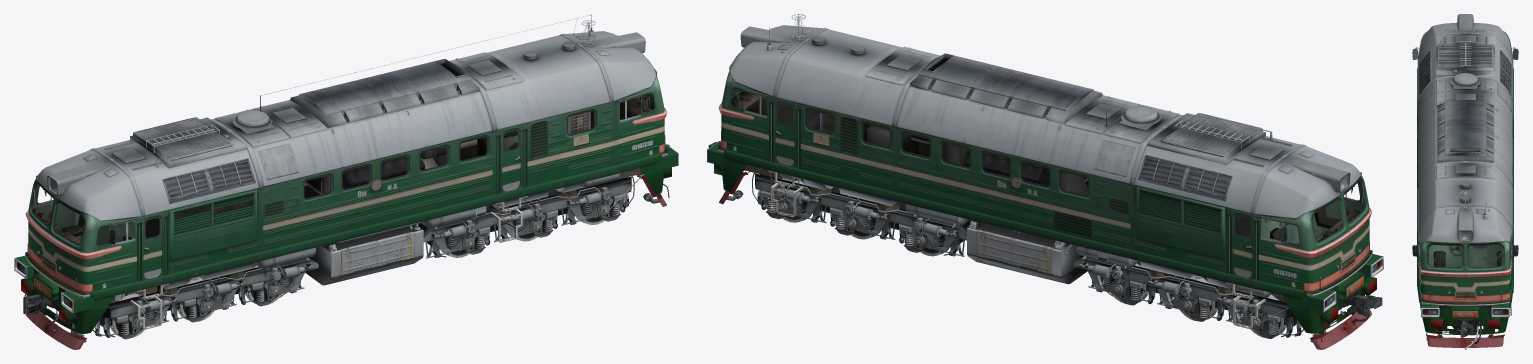
Rendered from sergej.glb.
3 views of the same model, side by side, from view 1: azimuth 30°, elevation 25°; view 2: azimuth 150°, elevation 25°; view 3: azimuth 270°, elevation 25° (orthographic). The views are drawn at different scales.
Visible parts, largest first — view 1: sergej_m62; view 2: sergej_m62; view 3: sergej_m62.
Part boxes in pixels (x1,y1,x2,y2): sergej_m62: (14, 14, 678, 349); sergej_m62: (707, 14, 1383, 349); sergej_m62: (1412, 14, 1518, 349).
Bounding box in the file's own units: 17.69 × 4.87 × 3.32.
1 material, 1 textured.
